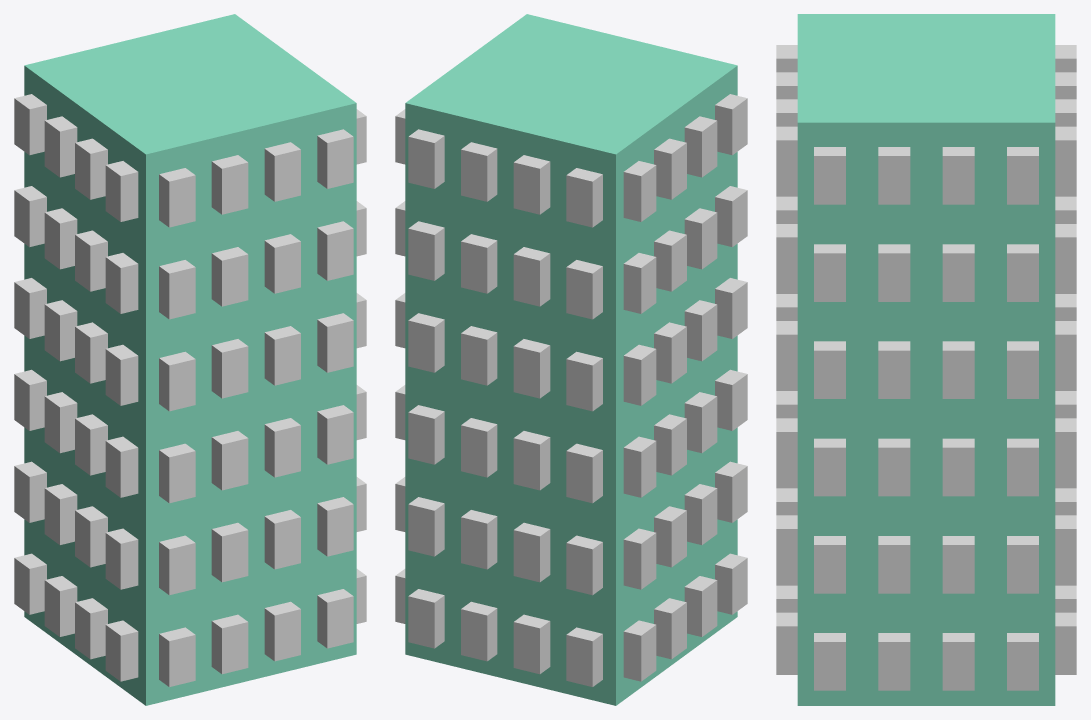
File: Skyscraper 3.fbx
3 views of the same model, side by side, from view 1: azimuth 30°, elevation 25°; view 2: azimuth 150°, elevation 25°; view 3: azimuth 270°, elevation 25° (orthographic). The views are drawn at different scales.
Visible parts, largest first — view 1: Cube.001, Cube.004, Cube.005; view 2: Cube.001, Cube.004, Cube.005; view 3: Cube.001, Cube.005, Cube.004.
Part boxes in pixels (box(x1,y1,x2,y2)): Cube.001: box(24, 14, 356, 705); Cube.004: box(159, 129, 353, 686); Cube.005: box(14, 94, 366, 681); Cube.001: box(405, 14, 737, 705); Cube.004: box(408, 129, 602, 686); Cube.005: box(395, 94, 747, 681); Cube.001: box(797, 14, 1055, 705); Cube.005: box(814, 147, 1038, 690); Cube.004: box(776, 45, 1076, 674).
Bounding box in the file's own units: 213 × 457 × 213.
